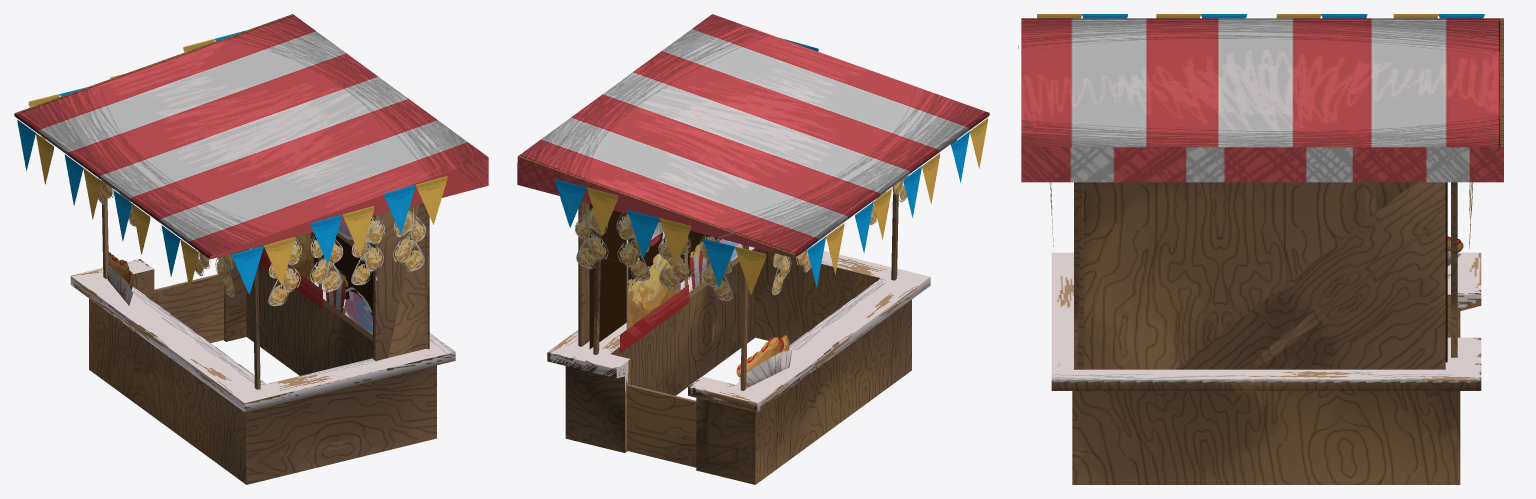
The model's file is food_stall.fbx.
3 views of the same model, side by side, from view 1: azimuth 30°, elevation 25°; view 2: azimuth 150°, elevation 25°; view 3: azimuth 270°, elevation 25° (orthographic). The views are drawn at different scales.
Parts seen in each view (by area): view 1: stall_pCube6, stall_banner, pPlane30, pPlane28, pPlane29, pPlane19; view 2: stall_pCube6, stall_banner, pPlane30, pPlane28, pPlane29, pPlane19; view 3: stall_pCube6, stall_banner, pPlane29.
Part boxes in pixels (bbox=[...]): stall_pCube6: bbox=[14, 14, 488, 484]; stall_banner: bbox=[17, 30, 447, 294]; pPlane30: bbox=[98, 178, 426, 306]; pPlane28: bbox=[258, 223, 372, 341]; pPlane29: bbox=[310, 217, 372, 316]; pPlane19: bbox=[107, 251, 133, 305]; stall_pCube6: bbox=[517, 14, 989, 484]; stall_banner: bbox=[554, 37, 987, 294]; pPlane30: bbox=[575, 175, 908, 301]; pPlane28: bbox=[620, 214, 743, 353]; pPlane29: bbox=[589, 204, 721, 348]; pPlane19: bbox=[736, 335, 791, 387]; stall_pCube6: bbox=[1021, 18, 1503, 484]; stall_banner: bbox=[1018, 14, 1484, 48]; pPlane29: bbox=[1445, 182, 1447, 362].
Size of the model in its own units: 51.01 by 50.07 by 63.53.
